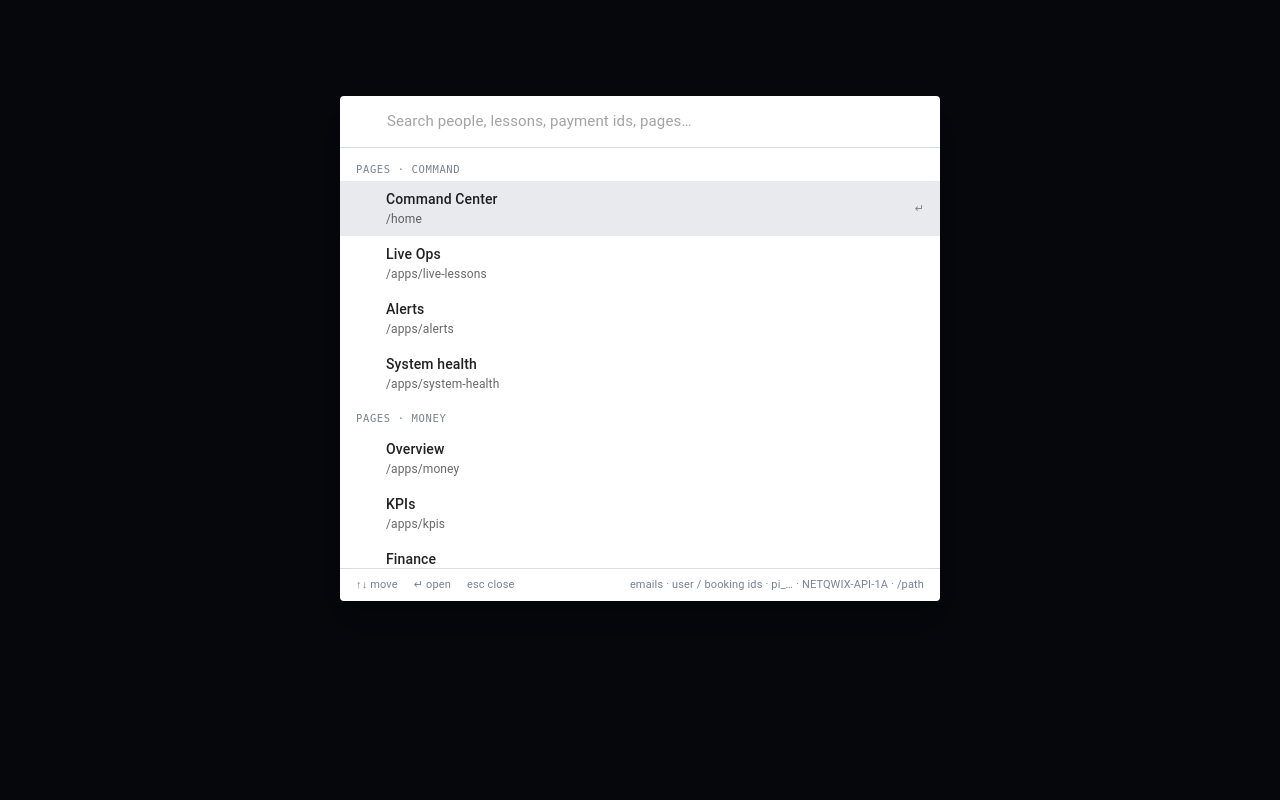
Test: AdminCommandPalette › says when search fails instead of hanging
Type "zzzzqq" into the dropdown at (655, 121), box [387,106,924,137]
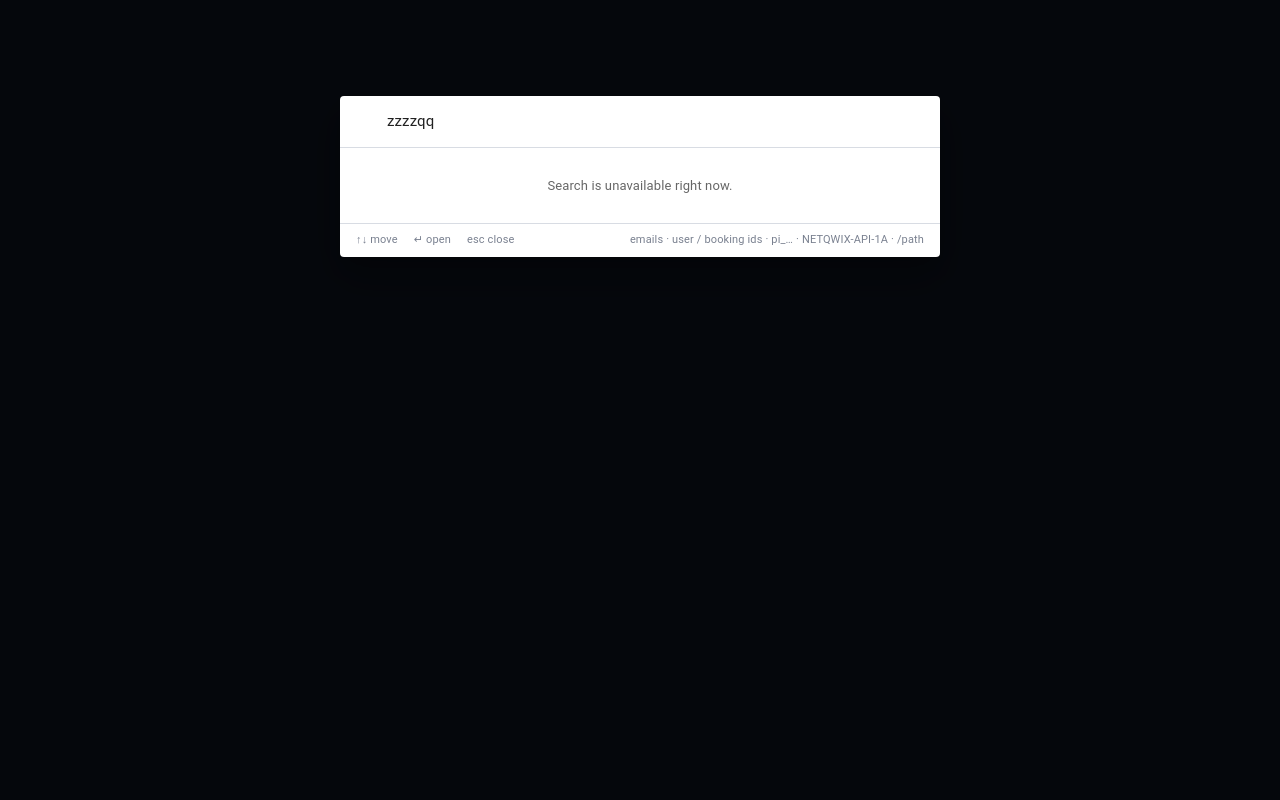
Check: the text "Search is unavailable right now." is shown, box [547,178,733,193]
